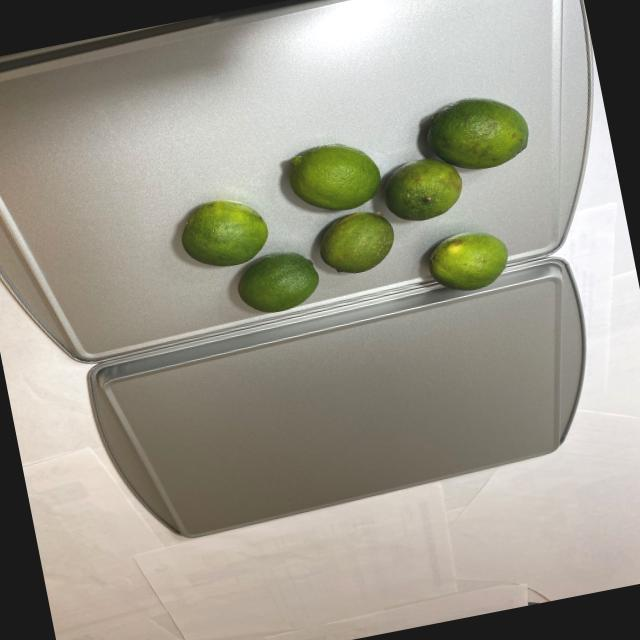lemon: (166, 92, 560, 344)
